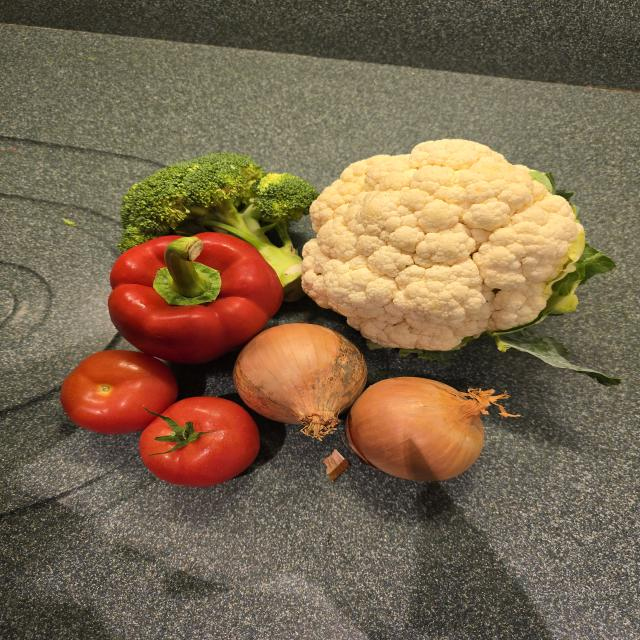Bell Pepper: (108, 232, 283, 364)
Broccoli: (119, 153, 319, 289)
Cauliflower: (303, 139, 583, 351)
Onion: (346, 377, 506, 481), (233, 323, 367, 439)
Tomato: (139, 397, 260, 486), (60, 350, 178, 434)
